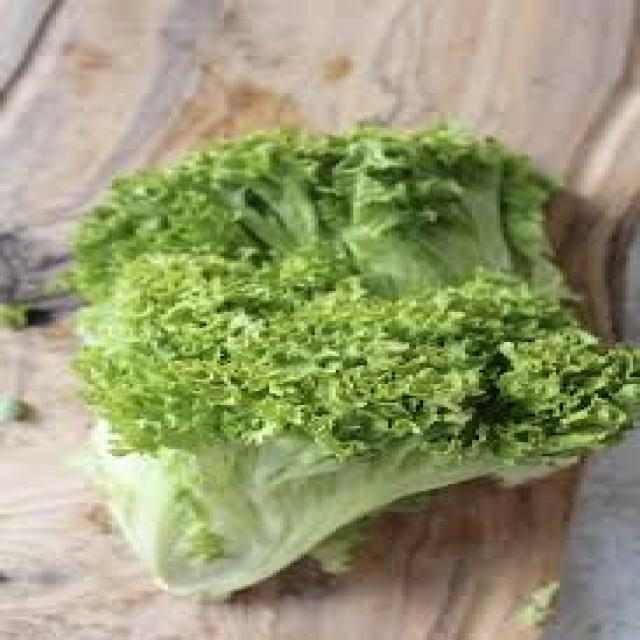Lettuce: (64, 124, 640, 604)
